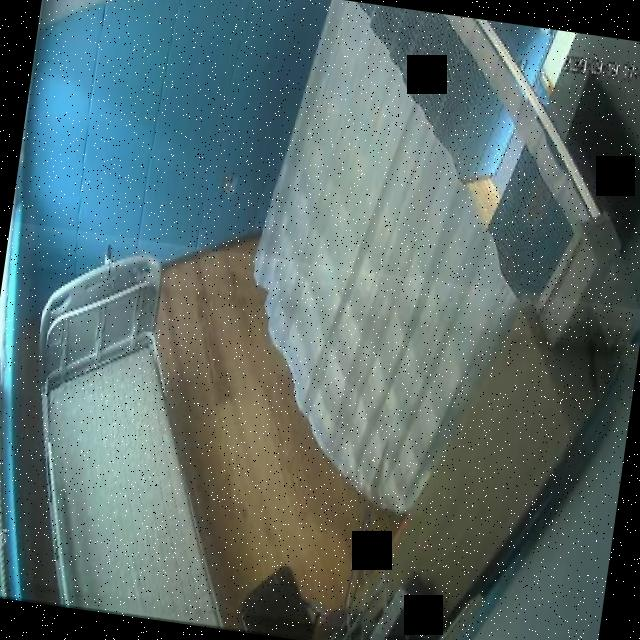bed: (2, 240, 274, 630)
